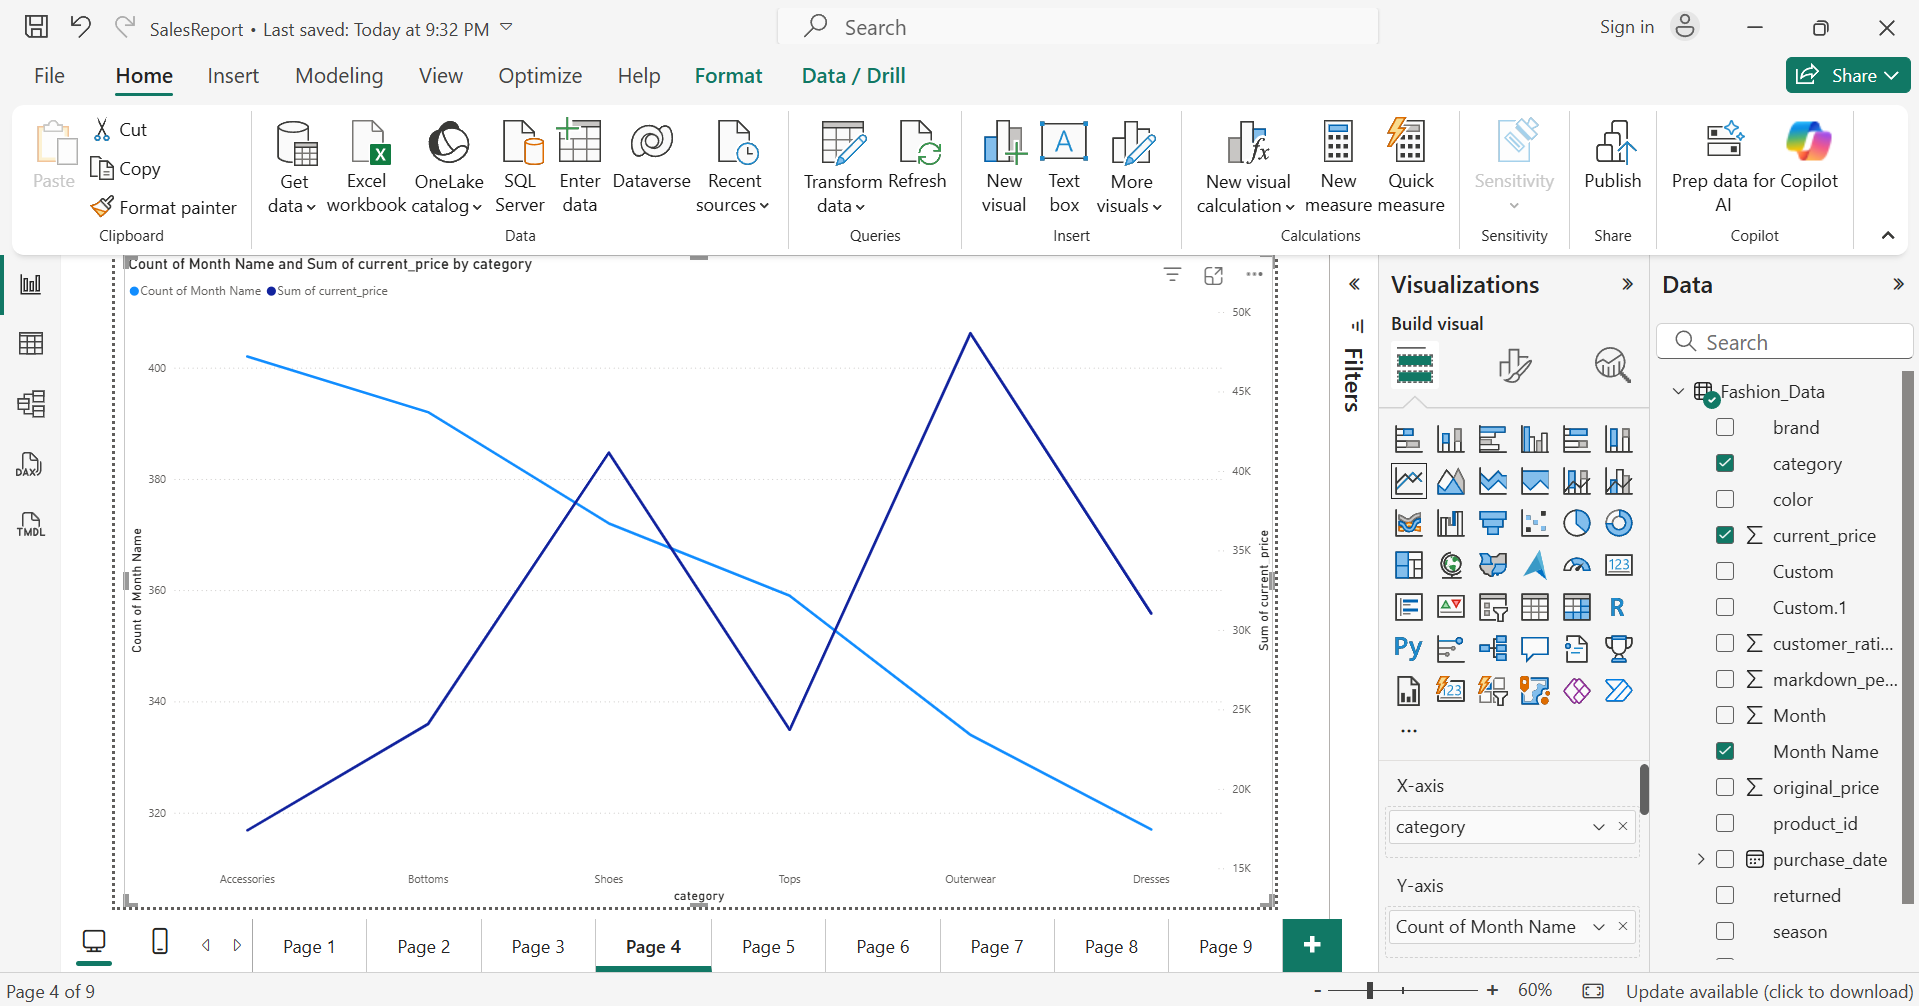

What the dashboard file says about the page in this screenshot:
{"tool":"powerbi","page":{"name":"Page 4","canvas":[1280,720],"ordinal":3},"visuals":[{"type":"lineChart","fields":{"Y":["CountNonNull(Fashion_Data.Month Name)"],"Category":["Fashion_Data.category"],"Y2":["Sum(Fashion_Data.current_price)"]},"box":[9.4,0,1269.9,720],"z":0}]}

Visuals, with their boxes on the page's 1280x720 design canvas (x1, y1, x2, y2). These are canvas units, not pixel positions in the 1919x1006 screenshot, which may show the page scaled, cropped or inside an application window:
lineChart - CountNonNull(Fashion_Data.Month Name) x Fashion_Data.category: 9,0,1279,720
